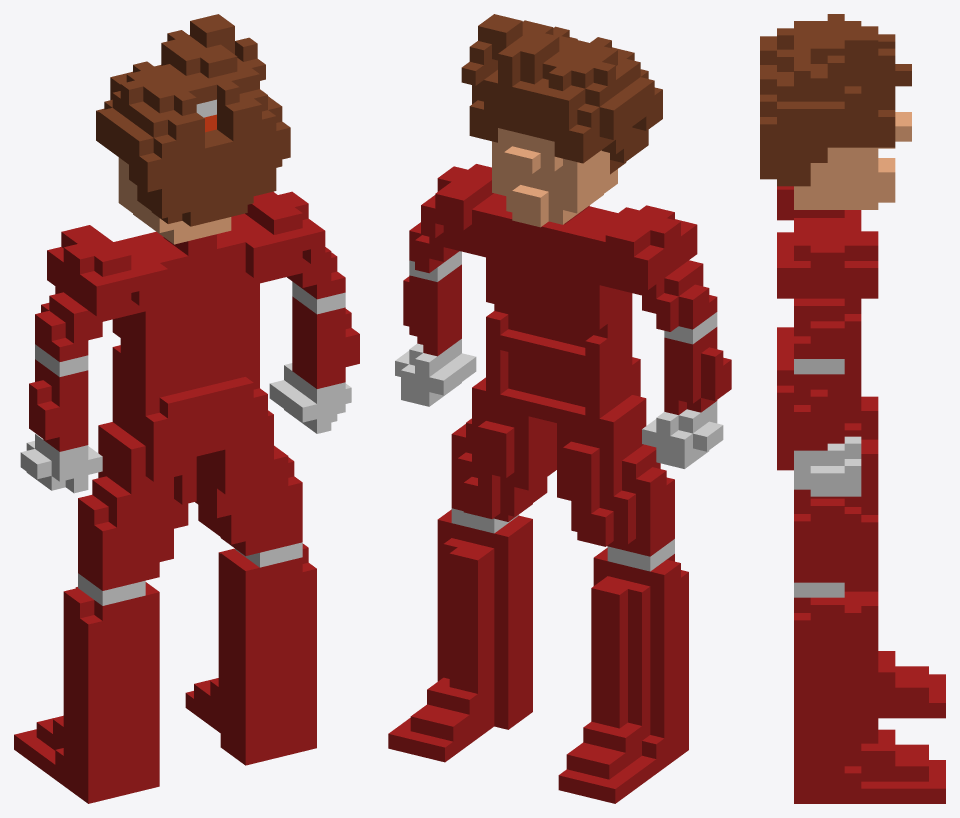
The model's file is actor-man1.obj.
3 renders of one model, left to right at view 1: azimuth 30°, elevation 25°; view 2: azimuth 150°, elevation 25°; view 3: azimuth 270°, elevation 25°, orthographic. The views are drawn at different scales.
Size of the model in its own units: 22 by 48 by 11.
1 material, 1 textured.
